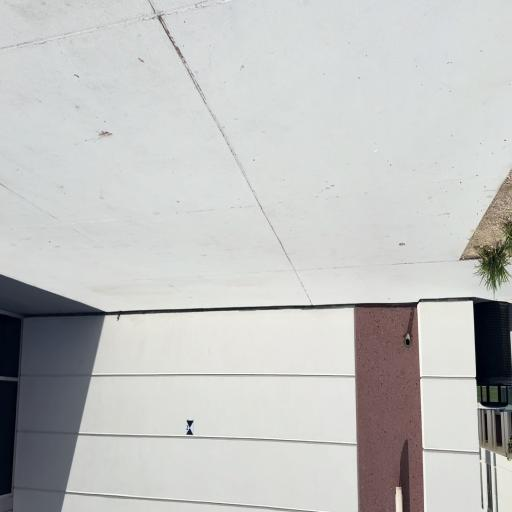target7: (186, 420, 194, 435)
